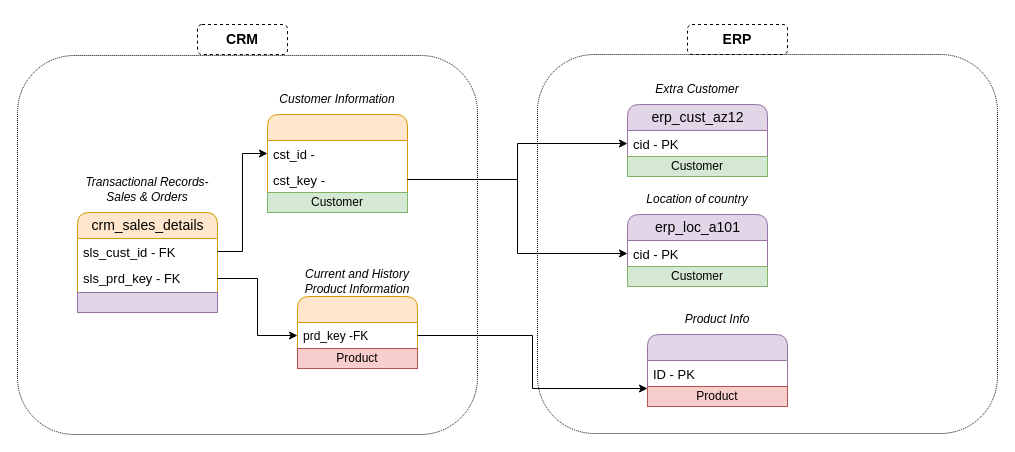
This 1015x452 diagram has some shape labels left out. Each missing label, with the box of its shape:
crm_cust_info: (266, 114, 408, 212)
crm_prd_info: (296, 296, 418, 368)
erp_px_cat_g1v2: (646, 334, 788, 406)
Sales: (76, 292, 218, 312)
